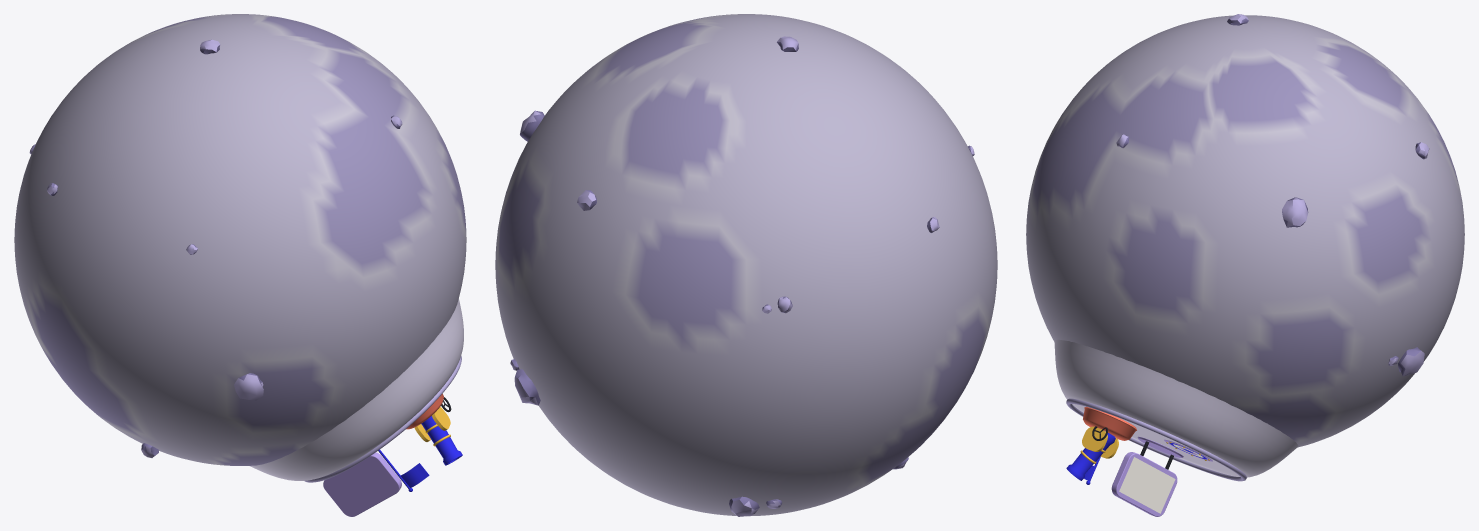
Rendered from moon.glb.
3 views of the same model, side by side, from view 1: azimuth 30°, elevation 25°; view 2: azimuth 150°, elevation 25°; view 3: azimuth 270°, elevation 25° (orthographic). The views are drawn at different scales.
Visible parts, largest first — view 1: MOON_ground, TERRACE_moon-landing, KIOSK_artboard-42_body, LIP_moon-landing, CANNON_moon_barrel, MOON_rock_05, MOON_flag; view 2: MOON_ground, MOON_rock_06; view 3: MOON_ground, TERRACE_moon-landing, KIOSK_artboard-42_screen, LIP_moon-landing, KIOSK_artboard-42_body, CANNON_moon_base, CANNON_moon_barrel, CANNON_moon_cheeks, MOON_rock_09, MOON_rock_06.
Part boxes in pixels (<box>): MOON_ground: <box>14,14,466,465</box>; TERRACE_moon-landing: <box>250,298,463,480</box>; KIOSK_artboard-42_body: <box>323,452,401,516</box>; LIP_moon-landing: <box>304,356,461,482</box>; CANNON_moon_barrel: <box>421,416,462,465</box>; MOON_rock_05: <box>234,373,263,400</box>; MOON_flag: <box>378,449,429,491</box>; MOON_ground: <box>495,14,997,516</box>; MOON_rock_06: <box>514,369,540,405</box>; MOON_ground: <box>1026,15,1464,447</box>; TERRACE_moon-landing: <box>1054,339,1298,477</box>; KIOSK_artboard-42_screen: <box>1119,457,1175,513</box>; LIP_moon-landing: <box>1066,398,1246,481</box>; KIOSK_artboard-42_body: <box>1111,436,1183,516</box>; CANNON_moon_base: <box>1083,406,1136,440</box>; CANNON_moon_barrel: <box>1066,431,1115,480</box>; CANNON_moon_cheeks: <box>1082,426,1118,458</box>; MOON_rock_09: <box>1282,197,1308,227</box>; MOON_rock_06: <box>1398,347,1424,376</box>.
Bounding box in the file's own units: 18 × 20.56 × 18.
